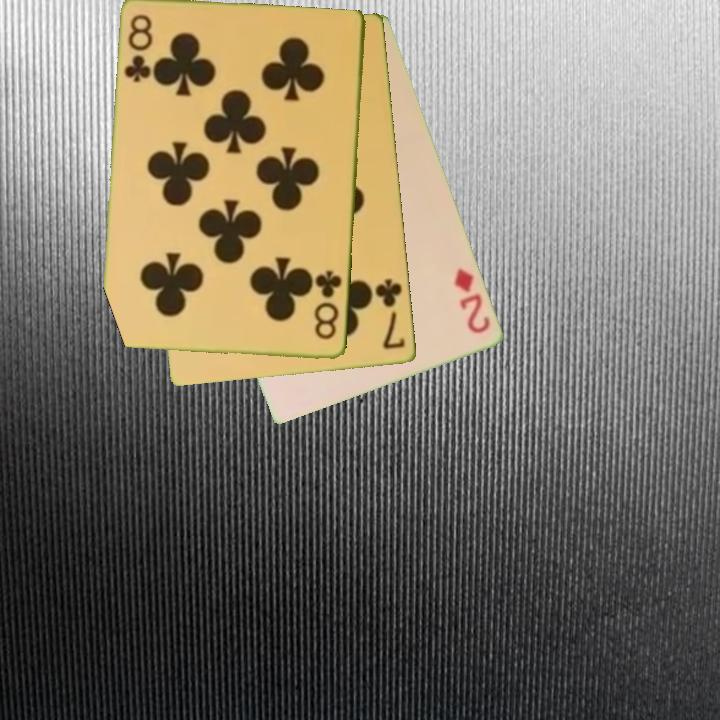2d: (451, 265, 494, 337)
7c: (372, 275, 408, 352)
8c: (121, 11, 156, 86), (311, 267, 345, 343)
